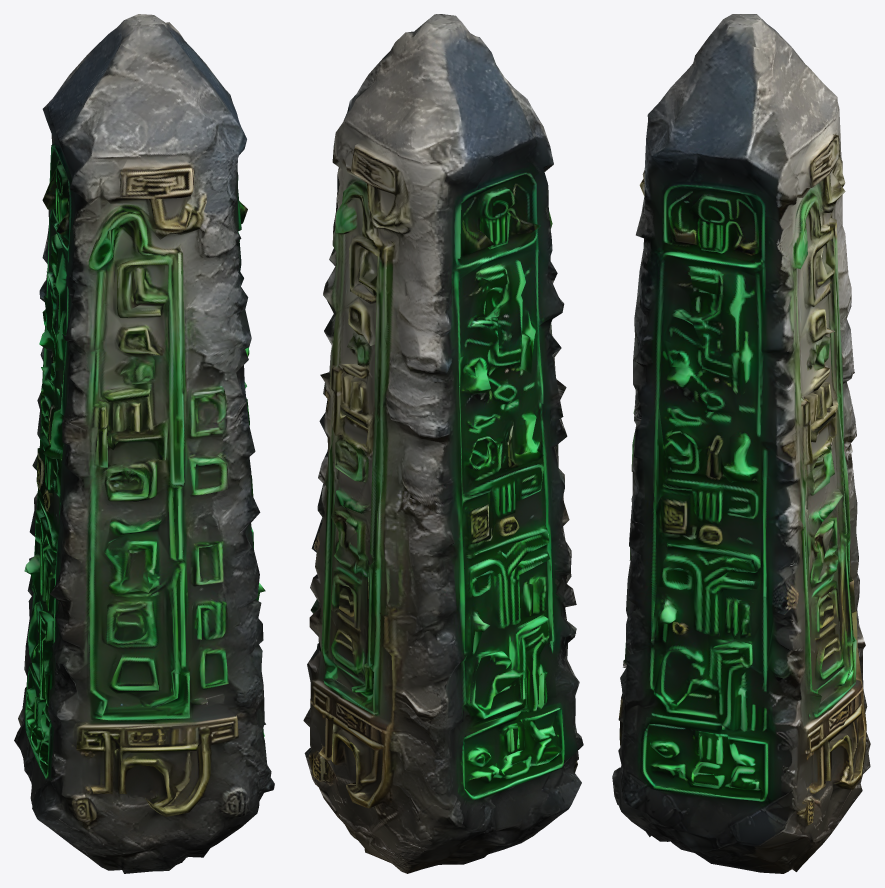
Rendered from obelisk.glb.
3 renders of one model, left to right at view 1: azimuth 30°, elevation 25°; view 2: azimuth 150°, elevation 25°; view 3: azimuth 270°, elevation 25°, orthographic.
Visible parts, largest first — view 1: node_b2d0d5ad-4867-4173-b6d9-3817fb6a6c48; view 2: node_b2d0d5ad-4867-4173-b6d9-3817fb6a6c48; view 3: node_b2d0d5ad-4867-4173-b6d9-3817fb6a6c48.
Boxes of the visible parts, left/top/right/bottom form: node_b2d0d5ad-4867-4173-b6d9-3817fb6a6c48: left=14, top=14, right=274, bottom=873; node_b2d0d5ad-4867-4173-b6d9-3817fb6a6c48: left=303, top=14, right=583, bottom=873; node_b2d0d5ad-4867-4173-b6d9-3817fb6a6c48: left=612, top=14, right=870, bottom=873.
Size of the model in its own units: 0.3026 by 1 by 0.2831.
Materials: 1 (1 with a texture image).
